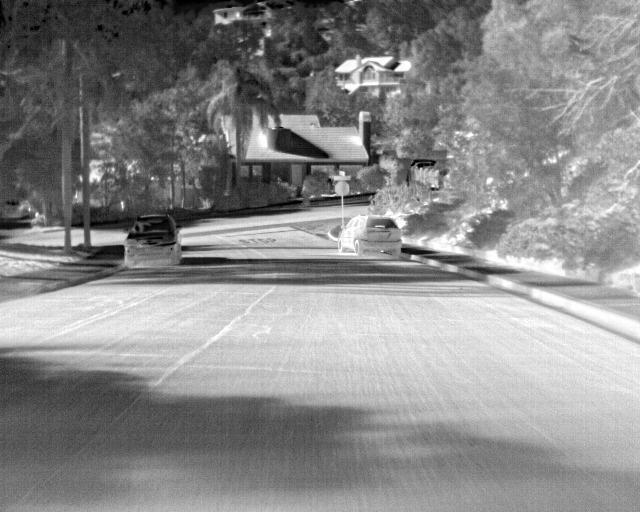car: (330, 209, 402, 262), (128, 209, 185, 269)
